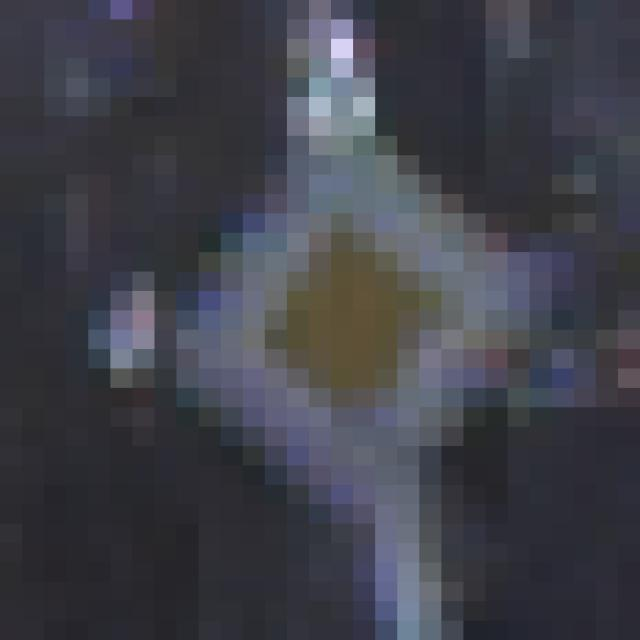Main Road: (134, 98, 531, 544)
